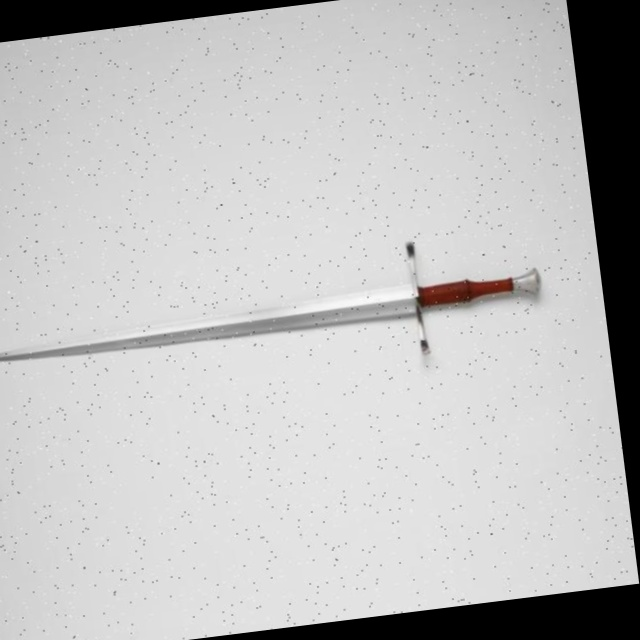Sharp-Object: (0, 265, 563, 384)
